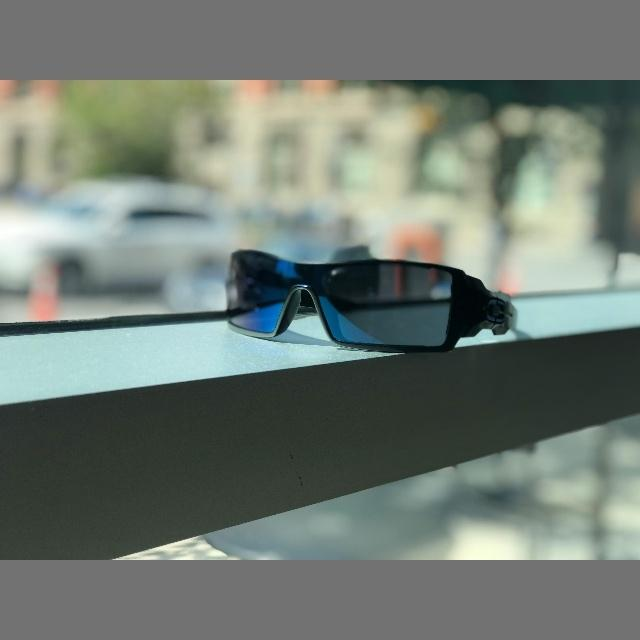Sunglasses: (205, 235, 520, 361)
